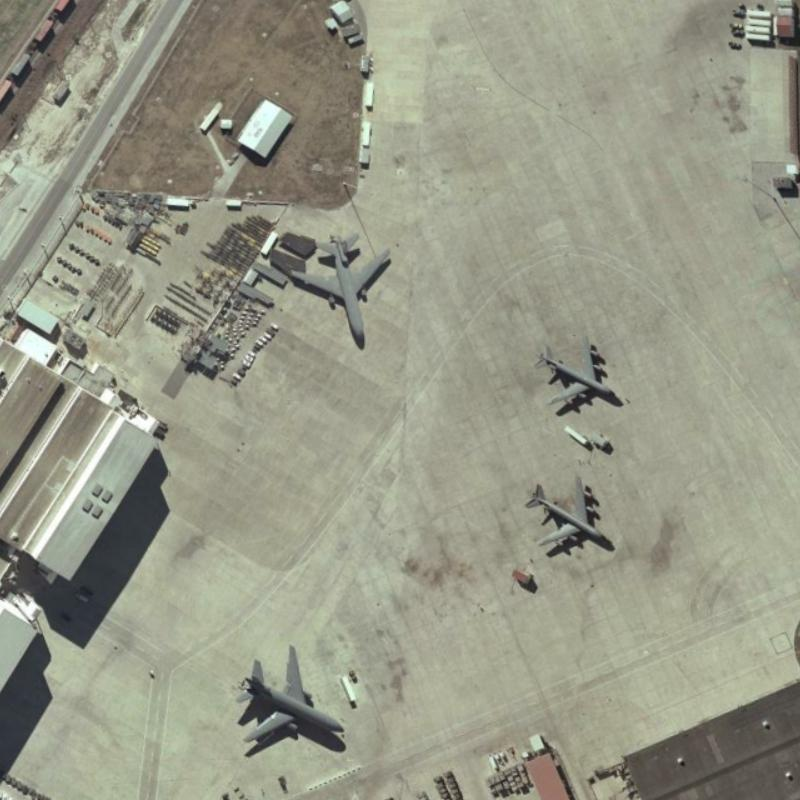A14: (516, 465, 619, 560), (526, 322, 623, 418)
A18: (227, 638, 347, 755), (282, 226, 398, 347)
